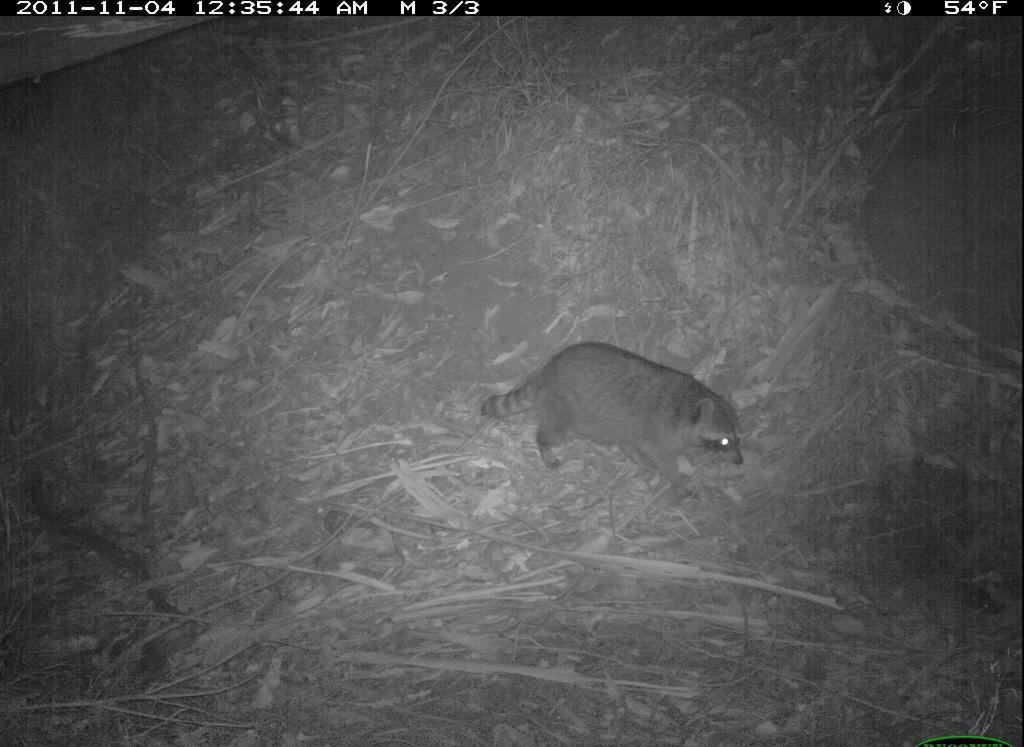raccoon: (479, 323, 751, 500)
